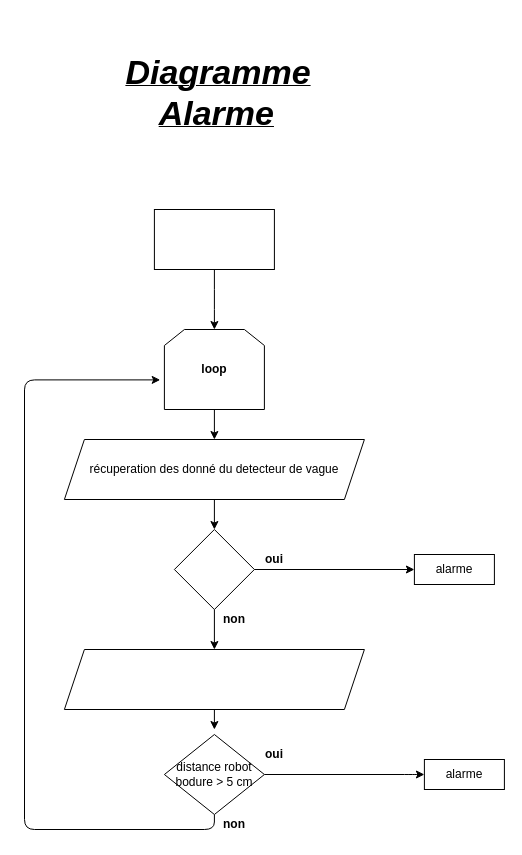
The diagram is 522 pixels wide and 855 high, and some of its shapes have lost their labels. Here are the shapes that lost their labels. From the top down, the centre of each, then its label:
At pixel 213 239: "DEBUT".
At pixel 213 569: "il y a une vague ?".
At pixel 213 679: "récuperation des donné du capteur à ultrason".
